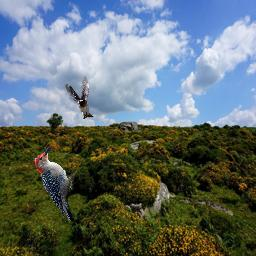Swallow: (65, 76, 94, 119)
Woodpecker: (33, 146, 74, 221)
